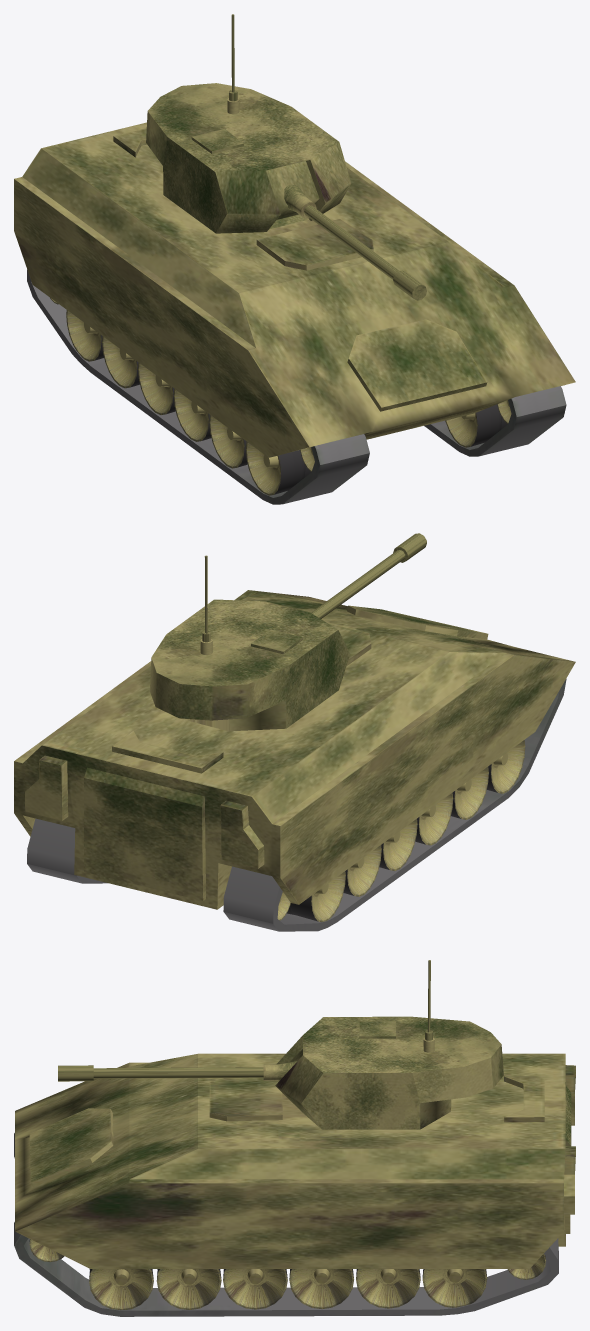
File: GenericTank#1.fbx
3 views of the same model, one above another, from view 1: azimuth 30°, elevation 25°; view 2: azimuth 150°, elevation 25°; view 3: azimuth 270°, elevation 25° (orthographic). The views are drawn at different scales.
Parts seen in each view (by area): view 1: Tank_Body, Turret_Body, Right_Track, Left_Track, Weapon, Right_BigWheel1, Left_BigWheel1, Right_BigWheel2, Right_BigWheel3, Right_BigWheel4, Right_BigWheel5, Right_BigWheel6; view 2: Tank_Body, Turret_Body, Right_Track, Left_Track, Weapon, Right_BigWheel6, Right_BigWheel1, Right_BigWheel2, Right_BigWheel3, Right_BigWheel4, Right_BigWheel5; view 3: Tank_Body, Turret_Body, Left_Track, Weapon, Left_BigWheel1, Left_BigWheel2, Left_BigWheel3, Left_BigWheel4, Left_BigWheel5, Left_BigWheel6.
Part boxes in pixels (left/top/right/bottom): Tank_Body: left=14, top=122, right=575, bottom=457; Turret_Body: left=146, top=83, right=351, bottom=233; Right_Track: left=27, top=269, right=369, bottom=504; Left_Track: left=424, top=386, right=566, bottom=456; Weapon: left=284, top=184, right=426, bottom=300; Right_BigWheel1: left=245, top=441, right=311, bottom=495; Left_BigWheel1: left=445, top=404, right=507, bottom=447; Right_BigWheel2: left=209, top=415, right=247, bottom=468; Right_BigWheel3: left=173, top=389, right=211, bottom=441; Right_BigWheel4: left=138, top=362, right=175, bottom=414; Right_BigWheel5: left=102, top=336, right=139, bottom=388; Right_BigWheel6: left=66, top=310, right=103, bottom=361; Tank_Body: left=14, top=590, right=575, bottom=909; Turret_Body: left=150, top=599, right=349, bottom=731; Right_Track: left=223, top=679, right=566, bottom=931; Left_Track: left=27, top=818, right=107, bottom=883; Weapon: left=311, top=533, right=426, bottom=618; Right_BigWheel6: left=287, top=871, right=345, bottom=922; Right_BigWheel1: left=487, top=740, right=525, bottom=793; Right_BigWheel2: left=451, top=766, right=488, bottom=819; Right_BigWheel3: left=415, top=792, right=453, bottom=845; Right_BigWheel4: left=379, top=819, right=417, bottom=870; Right_BigWheel5: left=343, top=845, right=381, bottom=896; Tank_Body: left=15, top=1053, right=575, bottom=1268; Turret_Body: left=275, top=1016, right=503, bottom=1129; Left_Track: left=14, top=1222, right=558, bottom=1316; Weapon: left=58, top=1061, right=297, bottom=1081; Left_BigWheel1: left=89, top=1269, right=153, bottom=1310; Left_BigWheel2: left=156, top=1269, right=221, bottom=1309; Left_BigWheel3: left=223, top=1269, right=287, bottom=1309; Left_BigWheel4: left=289, top=1269, right=353, bottom=1308; Left_BigWheel5: left=356, top=1269, right=420, bottom=1308; Left_BigWheel6: left=422, top=1269, right=487, bottom=1307.
Bounding box in the file's own units: 0.1051 × 0.1244 × 0.2068.
1 material, 1 textured.
